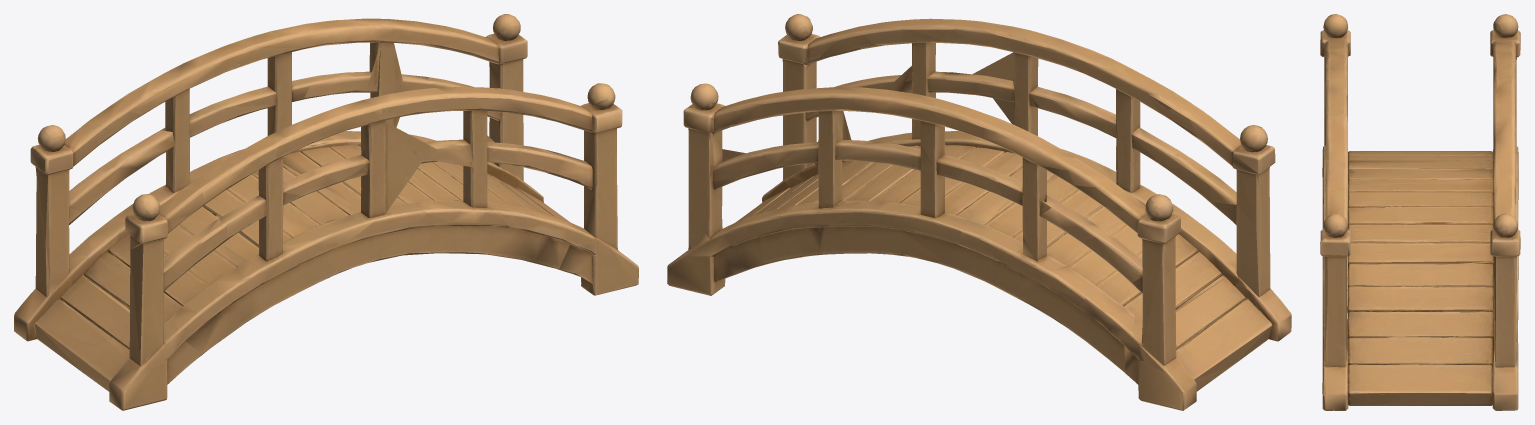
The model's file is upm_mu5vzo5qvt.glb.
3 renders of one model, left to right at view 1: azimuth 30°, elevation 25°; view 2: azimuth 150°, elevation 25°; view 3: azimuth 270°, elevation 25°, orthographic. The views are drawn at different scales.
Bounding box in the file's own units: 1.9 × 0.8499 × 0.7088.
Materials: 1 (1 with a texture image).
